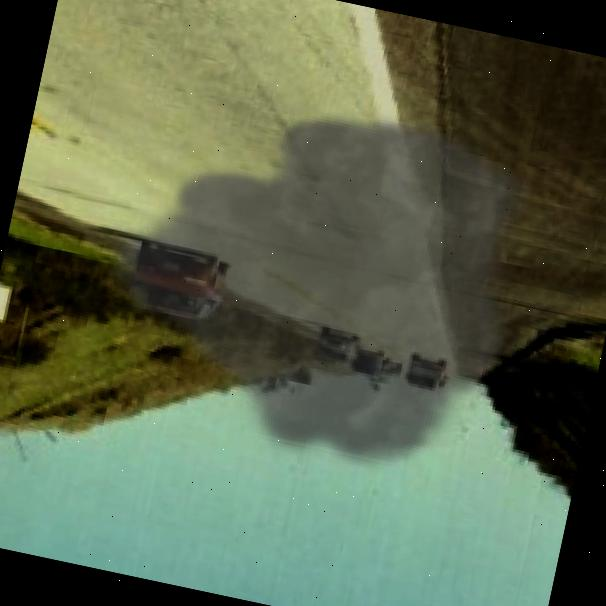smoke: (65, 57, 554, 503)
